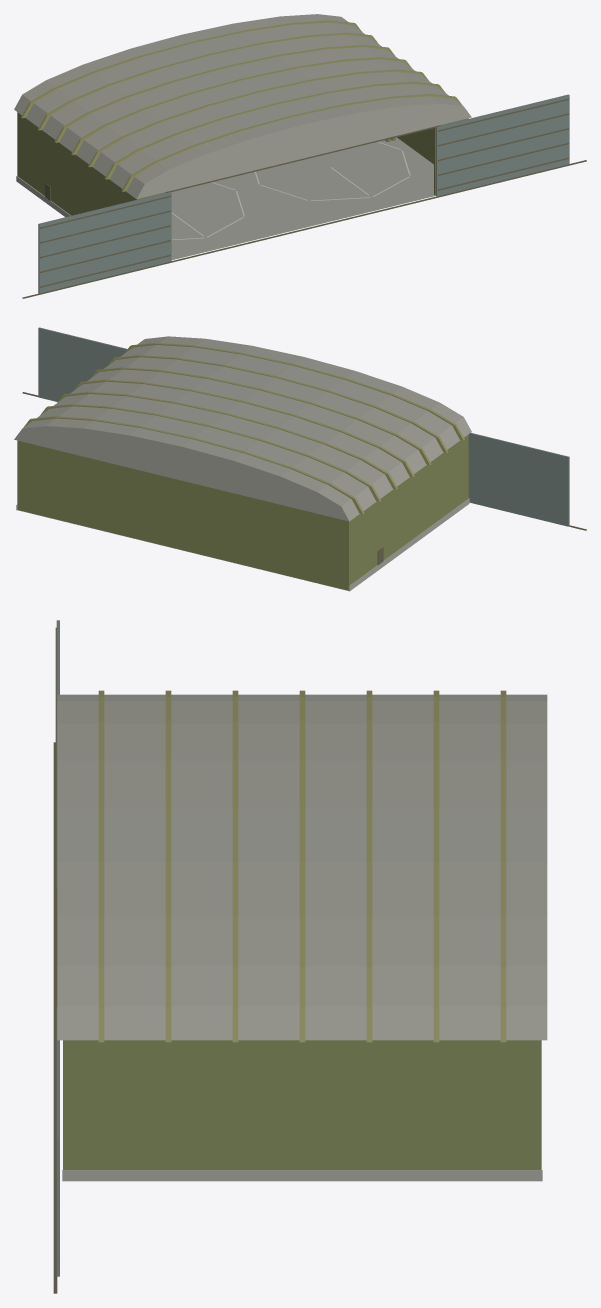
File: SM_HangarAbierto_v1_Almacen_LOD0.fbx
3 renders of one model, top to bottom at view 1: azimuth 30°, elevation 25°; view 2: azimuth 150°, elevation 25°; view 3: azimuth 270°, elevation 25°, orthographic. The views are drawn at different scales.
Parts seen in each view (by area): view 1: Cubierta, SM_hangar_abierto_v1_LOD0, Porton_E, Porton_O; view 2: Cubierta, SM_hangar_abierto_v1_LOD0, Porton_O, Porton_E; view 3: Cubierta, SM_hangar_abierto_v1_LOD0, Porton_E, Porton_O.
Part boxes in pixels (left/top/right/bottom): Cubierta: left=14, top=14, right=471, bottom=199; SM_hangar_abierto_v1_LOD0: left=16, top=112, right=586, bottom=298; Porton_E: left=436, top=94, right=569, bottom=196; Porton_O: left=38, top=192, right=171, bottom=293; Cubierta: left=14, top=336, right=471, bottom=521; SM_hangar_abierto_v1_LOD0: left=16, top=392, right=586, bottom=591; Porton_O: left=468, top=433, right=569, bottom=526; Porton_E: left=38, top=327, right=127, bottom=401; Cubierta: left=57, top=690, right=547, bottom=1042; SM_hangar_abierto_v1_LOD0: left=53, top=742, right=542, bottom=1293; Porton_E: left=55, top=1009, right=59, bottom=1276; Porton_O: left=55, top=620, right=59, bottom=887.
Size of the model in its own units: 68 by 12.18 by 25.8.
